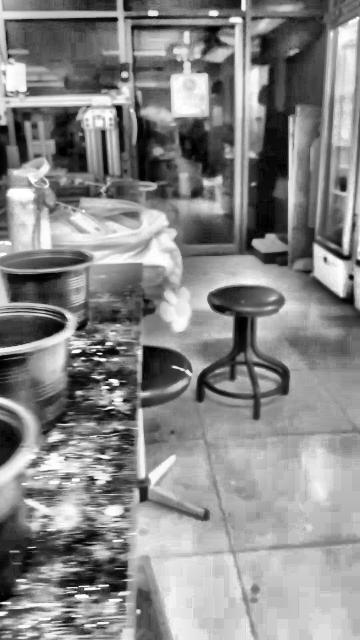pot: (0, 303, 75, 432), (0, 399, 39, 601), (0, 249, 93, 328)
